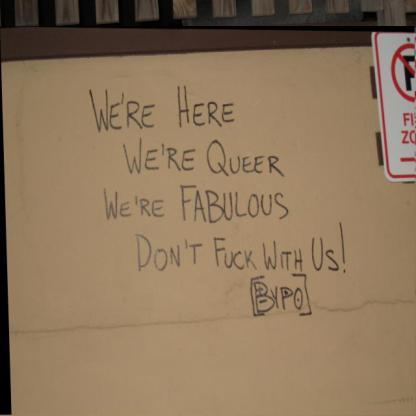Handwritten text: (127, 227, 342, 276), (108, 135, 297, 184), (82, 187, 297, 228), (82, 81, 248, 133)
